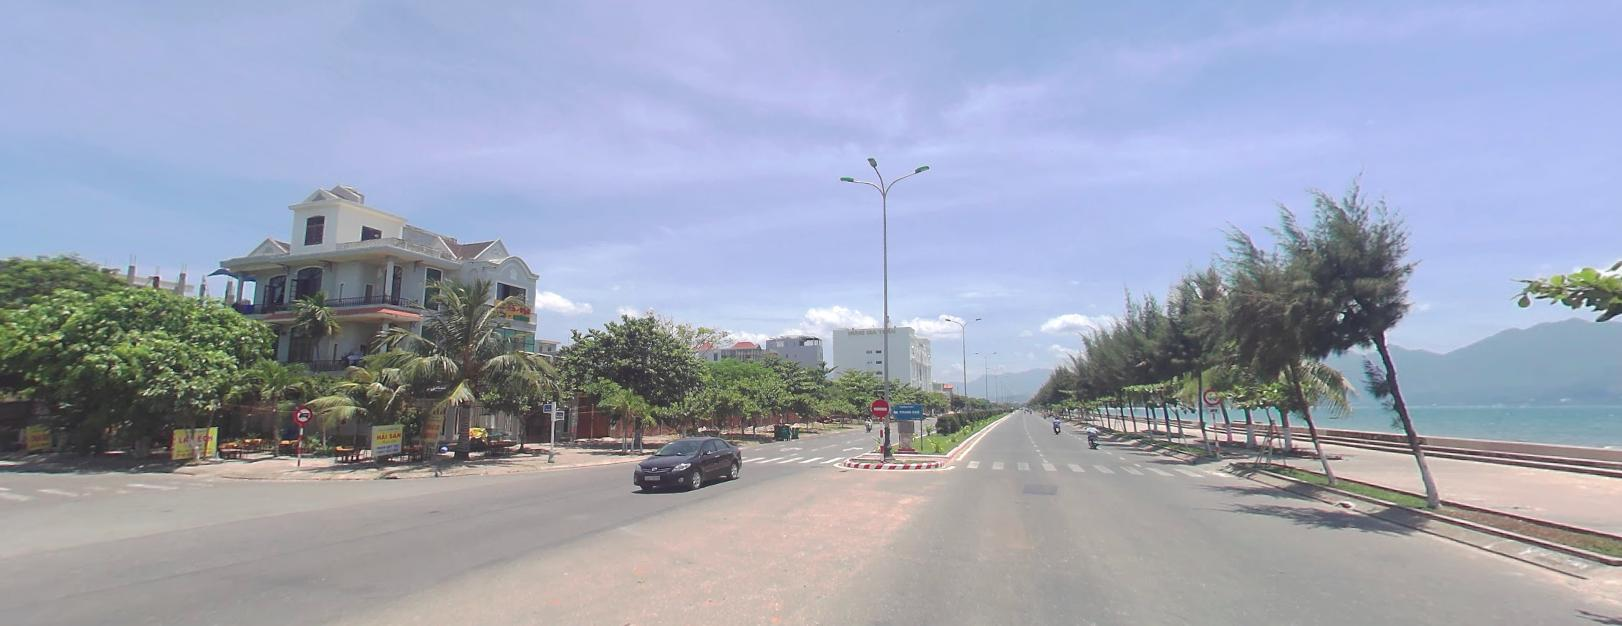Cam con lai: (295, 405, 311, 421)
Cam nguoc chieu: (871, 396, 889, 415), (871, 398, 887, 414)
Gioi han toc do: (1202, 387, 1224, 405), (1203, 387, 1221, 403)
